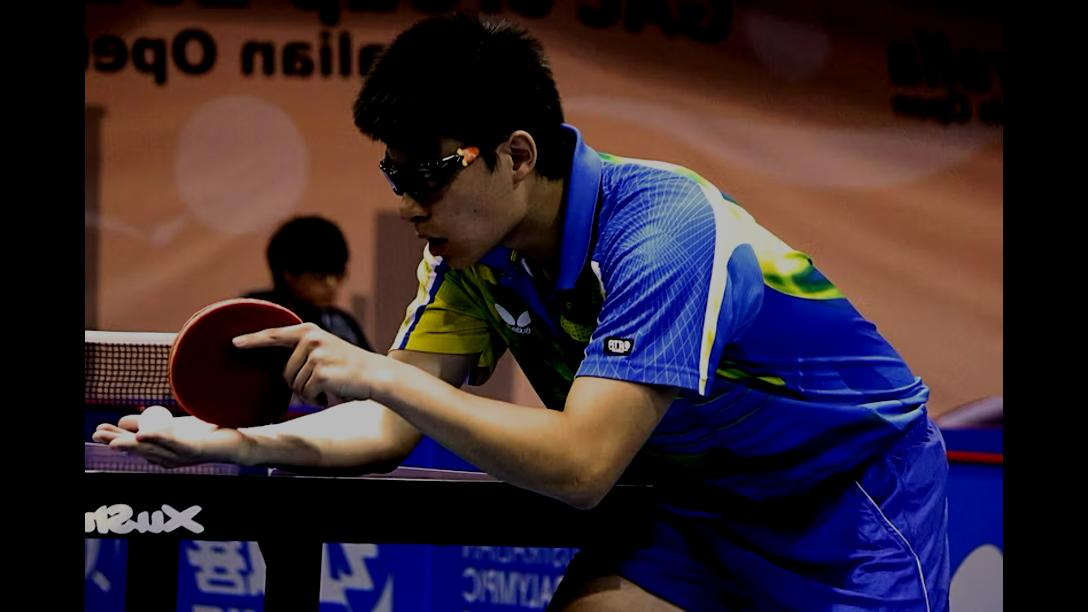Table-Tennis-Ball: (138, 405, 172, 435)
